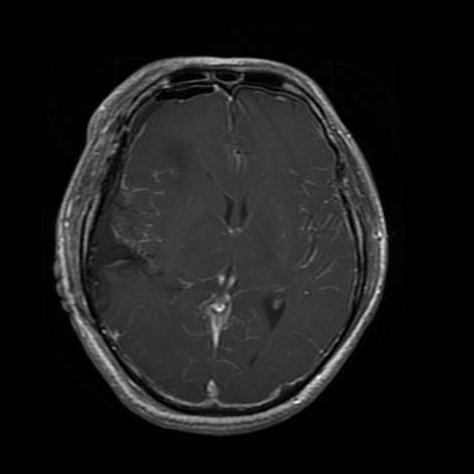Tumour-Glioma: (88, 198, 158, 301)
